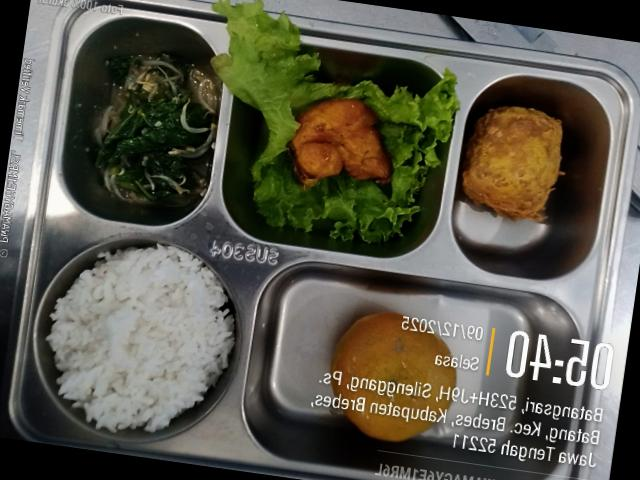ayam: (289, 99, 391, 188)
buah: (330, 313, 455, 441)
nasi: (46, 244, 234, 432)
sayur: (95, 56, 218, 203)
tahu: (461, 107, 563, 220)
